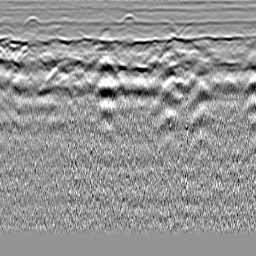cavity: (119, 10, 136, 25)
